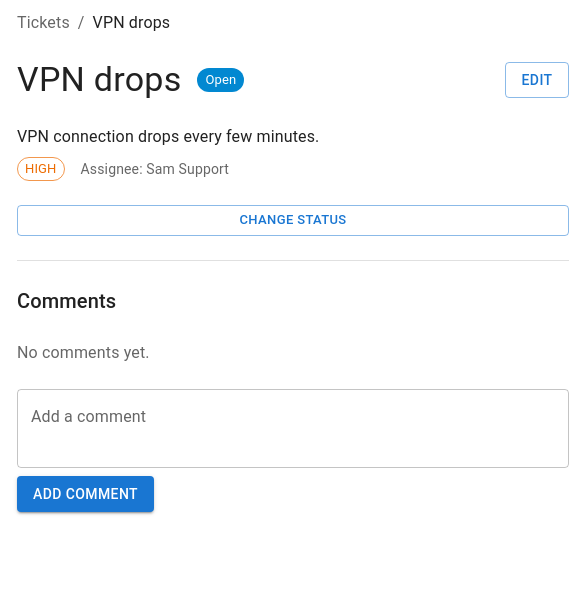
Test: Comment authorship and authorization (FR-021–FR-023) › shows the comment form and succeeds for the ticket's creator
The image size is (586, 597).
Type "Any update?" into the text box labelled "Add a comment" at coordinates (293, 428), box [31, 405, 555, 451]
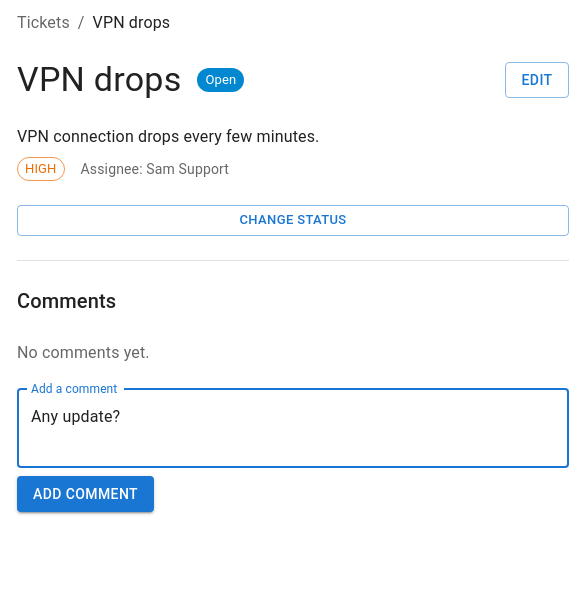
Click the button "Add Comment" at coordinates (86, 494), box [17, 476, 154, 512]
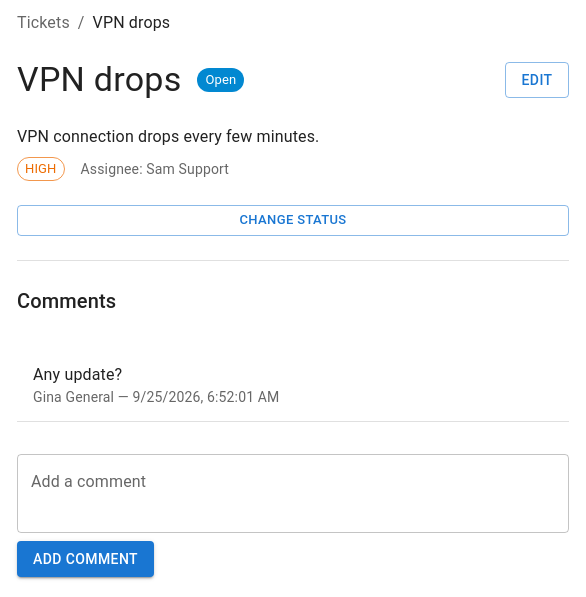
Expected: the text "Any update?" is shown, [33, 365, 122, 384]
Expected: the text "Gina General — 9/25/2026, 6:52:01 AM" is shown, [33, 389, 280, 405]
